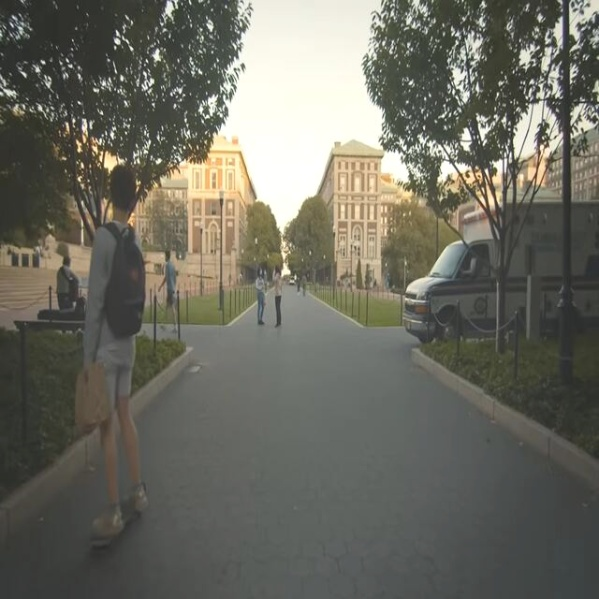Shorts: (81, 344, 155, 501), (161, 290, 181, 328)
